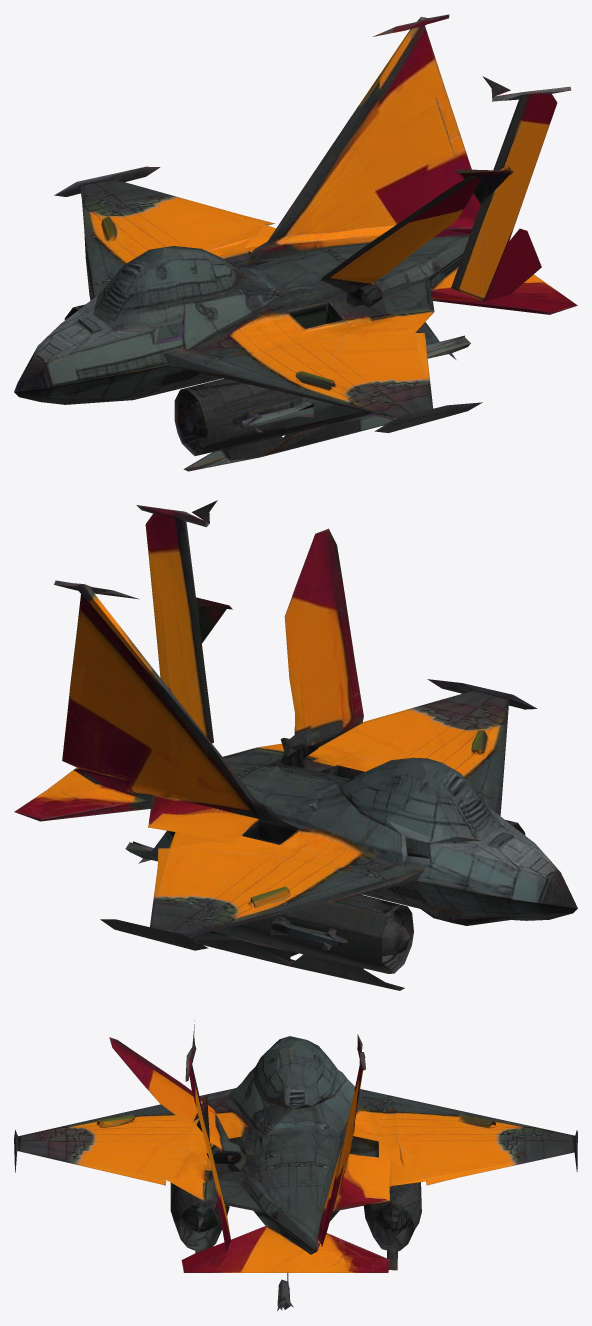
Rendered from nation-i-scout.glb.
3 renders of one model, top to bottom at view 1: azimuth 30°, elevation 25°; view 2: azimuth 150°, elevation 25°; view 3: azimuth 270°, elevation 25°, orthographic. The views are drawn at different scales.
Size of the model in its own units: 1.69 by 1.06 by 1.89.
Materials: 1 (1 with a texture image).
